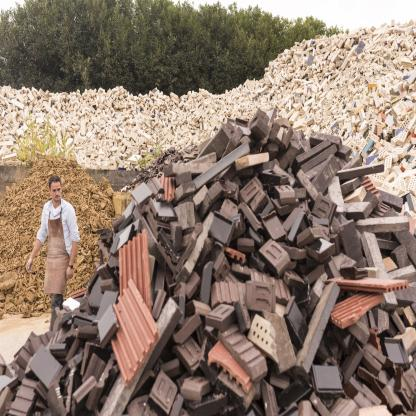brick: (1, 18, 416, 415)
